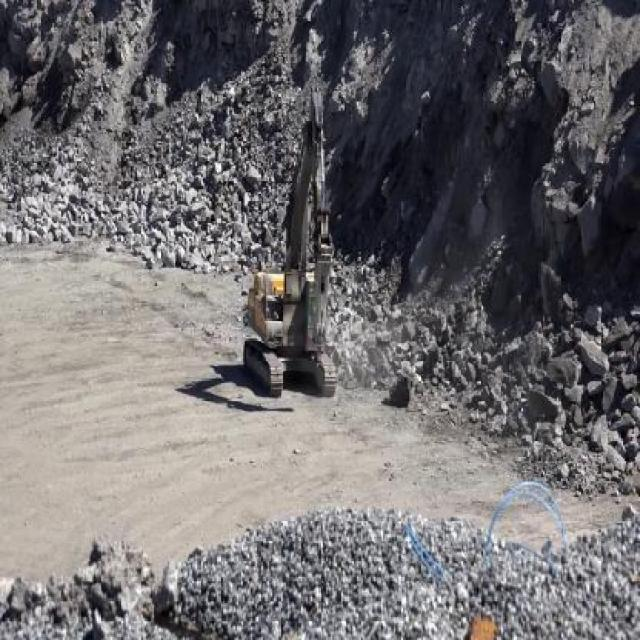Excavator: (238, 83, 342, 399)
